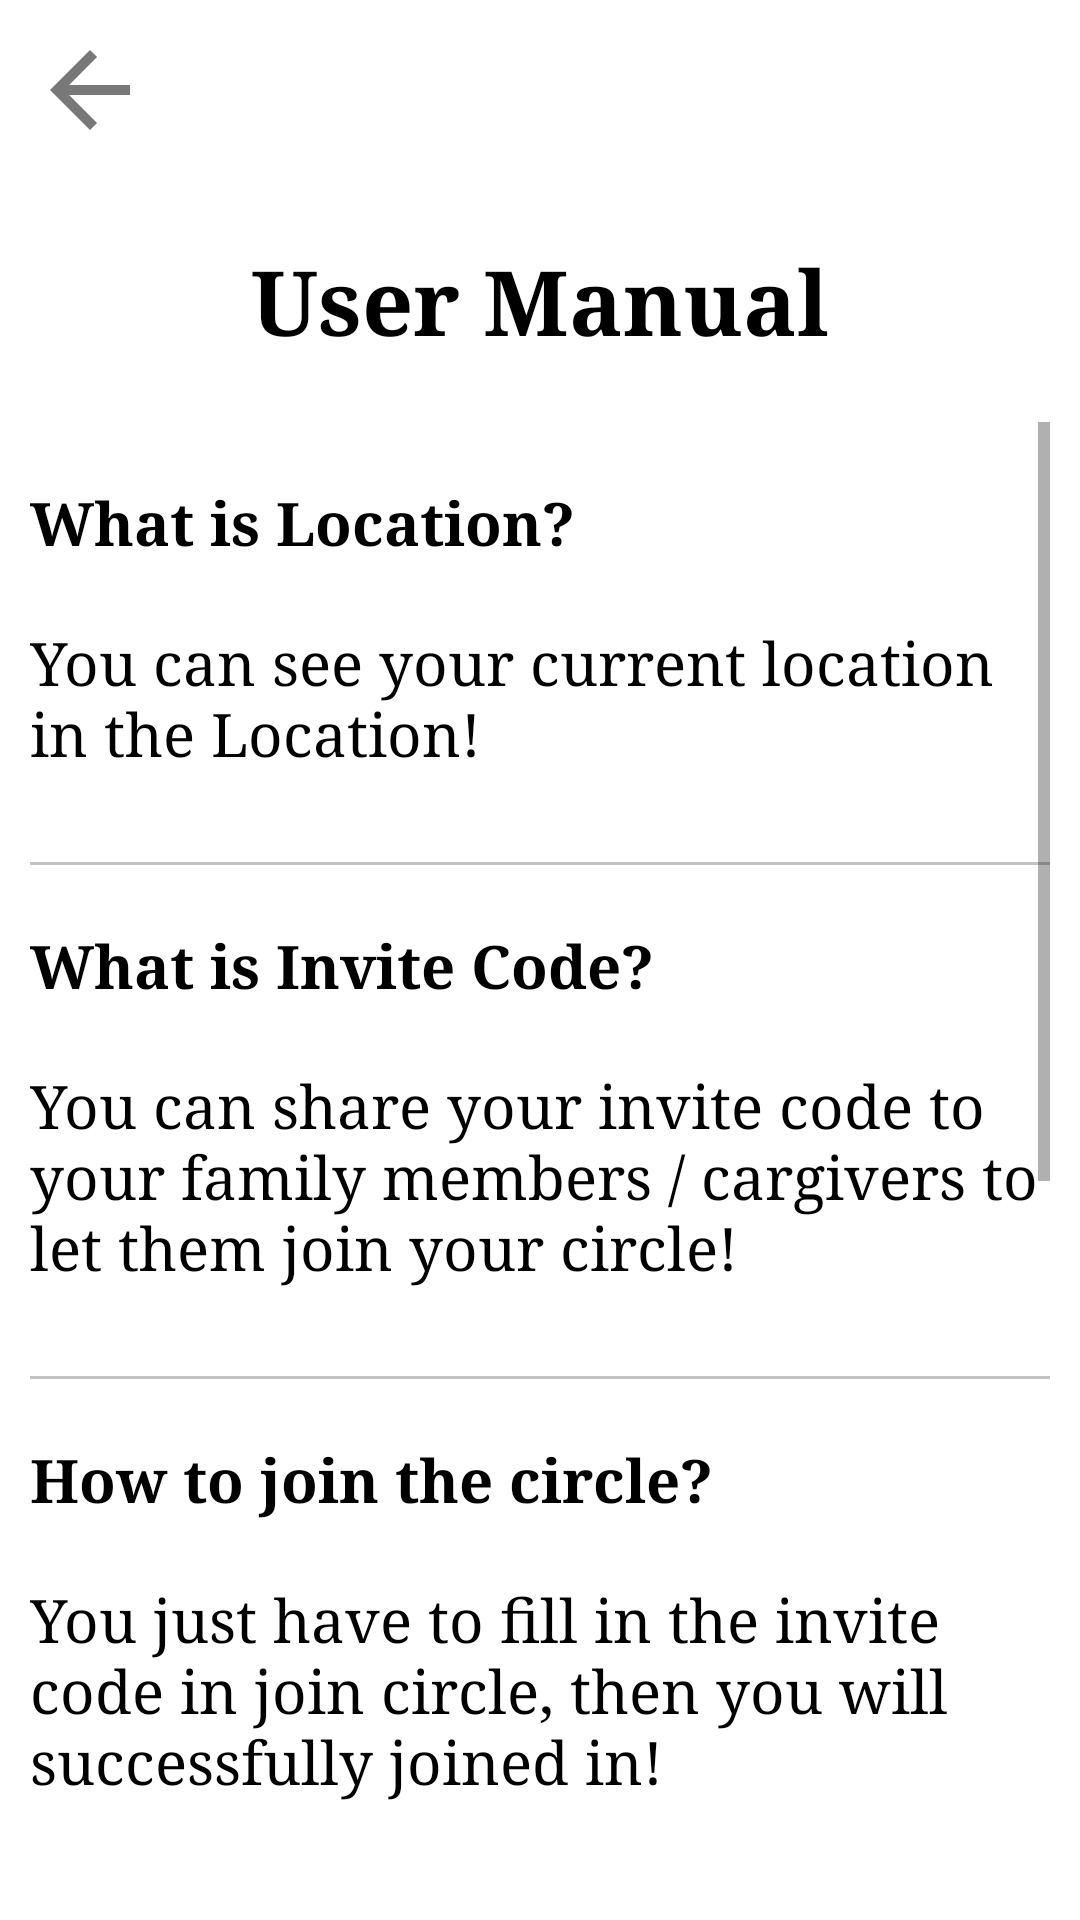

Icon click points for this 1080×1920 phone screenshot, format (x,y):
arrow back: (90,90)
